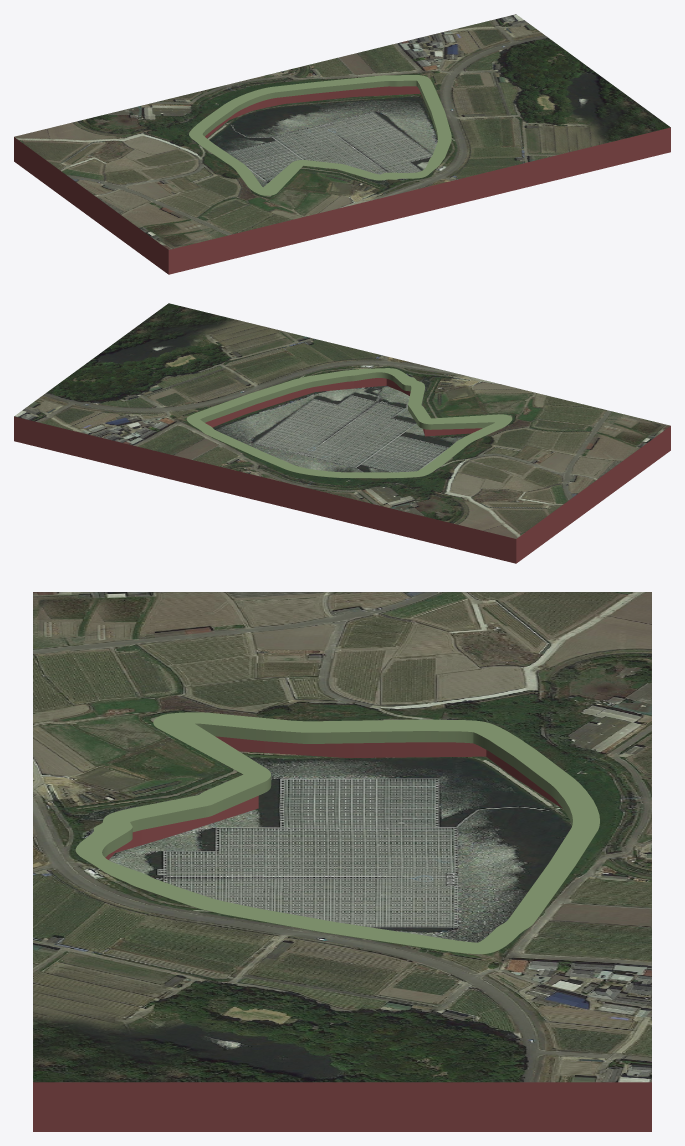
Rendered from pond_area.glb.
3 renders of one model, top to bottom at view 1: azimuth 30°, elevation 25°; view 2: azimuth 150°, elevation 25°; view 3: azimuth 270°, elevation 25°, orthographic. The views are drawn at different scales.
Parts seen in each view (by area): view 1: Area, pool; view 2: Area, pool; view 3: Area, pool.
Boxes of the visible parts, x1,y1,x2,y2 form: Area: (14, 14, 670, 274); pool: (189, 75, 451, 195); Area: (14, 303, 670, 563); pool: (186, 368, 512, 478); Area: (33, 592, 651, 1131); pool: (75, 712, 599, 954).
Bounding box in the file's own units: 18.74 × 0.8872 × 10.
Materials: 3 (1 with a texture image).
